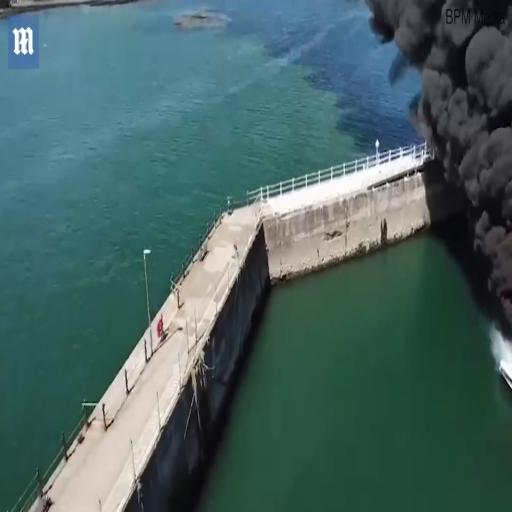smoke: (428, 0, 510, 173)
